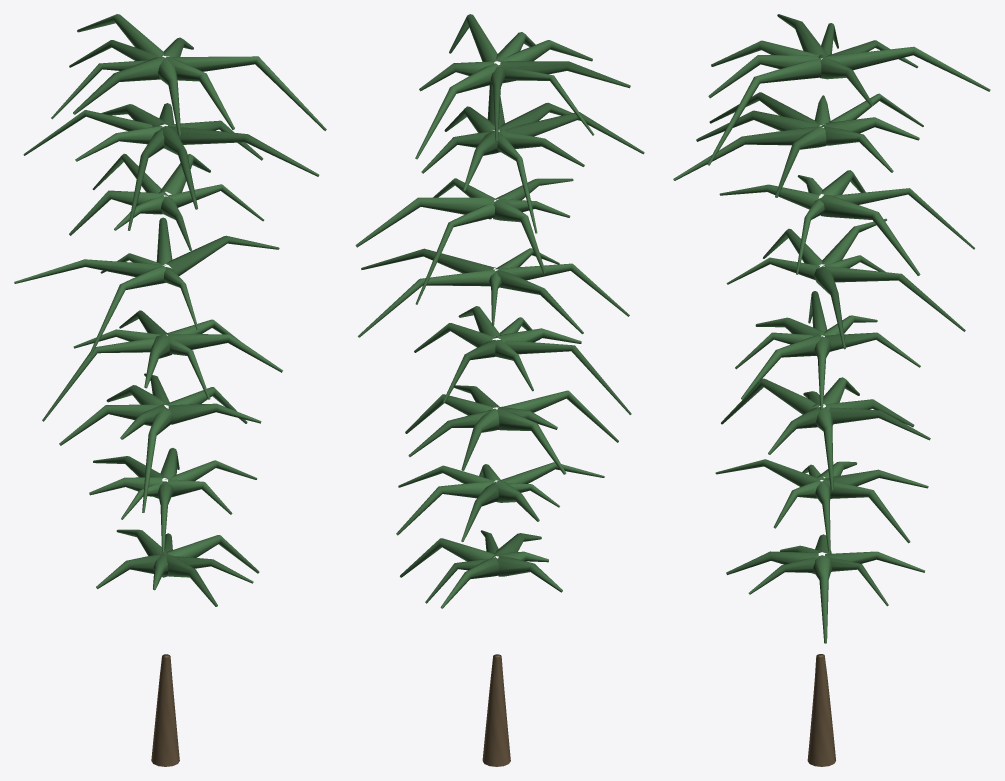
The model's file is field_spruce_b_lod0.glb.
3 renders of one model, left to right at view 1: azimuth 30°, elevation 25°; view 2: azimuth 150°, elevation 25°; view 3: azimuth 270°, elevation 25°, orthographic.
Visible parts, largest first — view 1: foliage, bark; view 2: foliage, bark; view 3: foliage, bark.
Boxes of the visible parts, box(x1,y1,x2,y2) form: foliage: box(14, 14, 326, 606); bark: box(151, 654, 179, 766); foliage: box(355, 14, 644, 608); bark: box(482, 654, 510, 766); foliage: box(673, 14, 990, 643); bark: box(807, 654, 835, 766).
Size of the model in its own units: 3.29 by 8.82 by 3.55.
